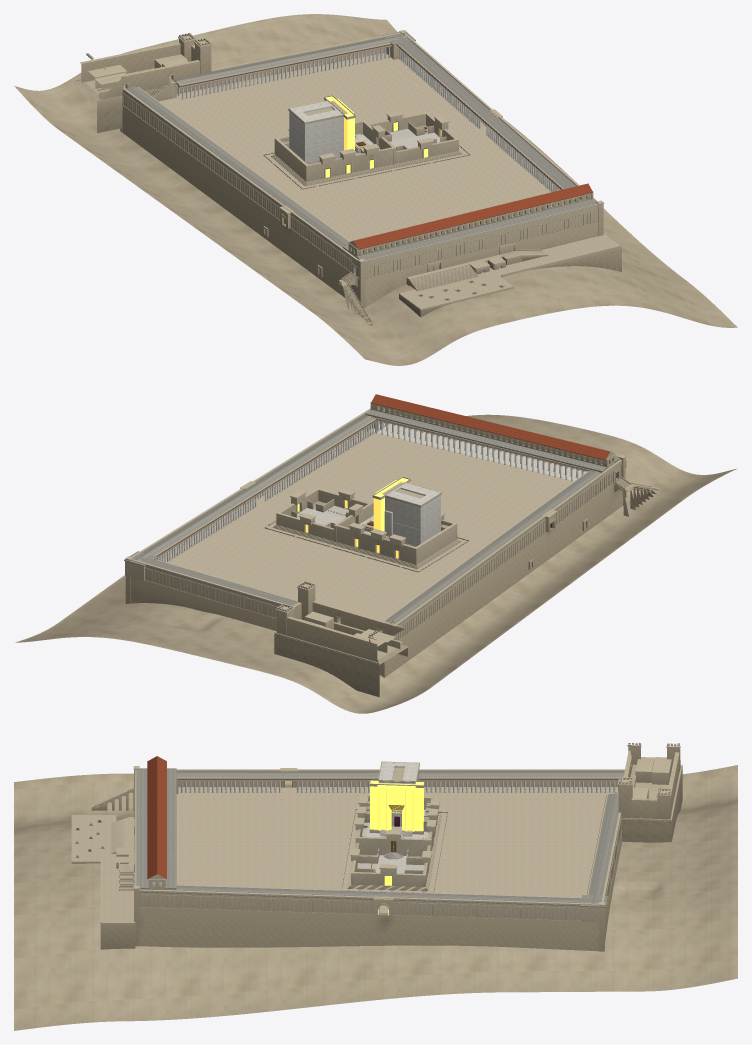
3 renders of one model, top to bottom at view 1: azimuth 30°, elevation 25°; view 2: azimuth 150°, elevation 25°; view 3: azimuth 270°, elevation 25°, orthographic. The views are drawn at different scales.
Visible parts, largest first — view 1: base, city, roofs, sanct, stairsChel; view 2: base, city, roofs, sanct, stairsChel; view 3: base, city, roofs, sanct, stairsChel.
Part boxes in pixels (x1,y1,x2,y2): base: [75, 32, 621, 325]; city: [14, 14, 737, 365]; roofs: [86, 30, 604, 268]; sanct: [288, 95, 355, 163]; stairsChel: [271, 151, 462, 186]; base: [125, 409, 659, 697]; city: [15, 414, 736, 713]; roofs: [124, 394, 626, 639]; sanct: [372, 477, 441, 546]; stairsChel: [272, 524, 461, 569]; base: [71, 746, 682, 951]; city: [14, 765, 737, 1030]; roofs: [116, 742, 680, 907]; sanct: [369, 761, 424, 831]; stairsChel: [347, 813, 441, 891].
Size of the model in its own units: 438 by 155 by 714.
17 materials, 17 textured.
